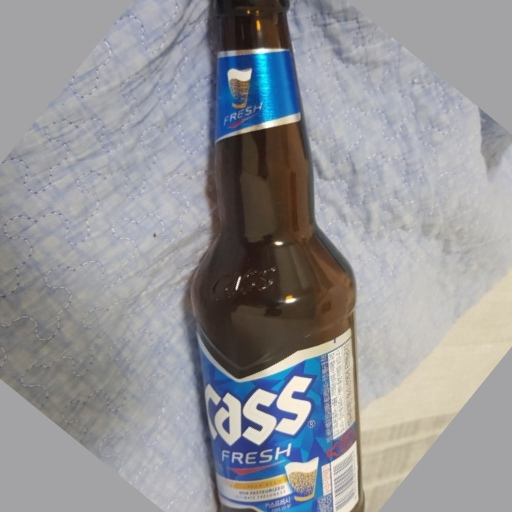Glass_1: (183, 6, 367, 511)
